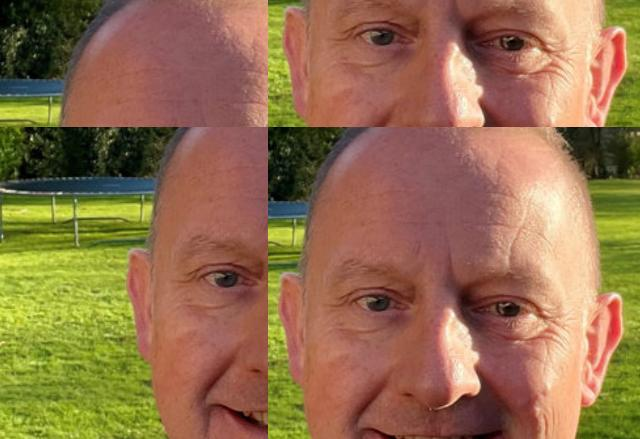crows_feet: (538, 308, 562, 340), (324, 292, 352, 312)
forehead: (558, 65, 624, 97), (542, 112, 619, 127), (496, 228, 520, 264), (627, 78, 640, 117)
frown_line: (439, 250, 463, 282)
gummy_smile: (348, 381, 384, 417)
